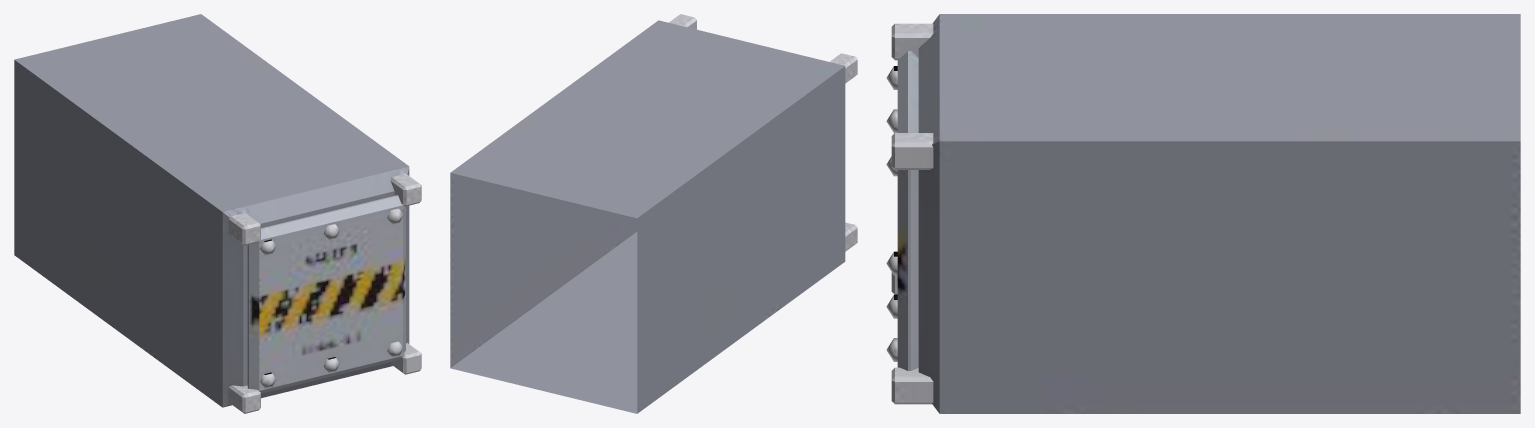
File: tile_steel.glb
3 renders of one model, left to right at view 1: azimuth 30°, elevation 25°; view 2: azimuth 150°, elevation 25°; view 3: azimuth 270°, elevation 25°, orthographic. The views are drawn at different scales.
Visible parts, largest first — view 1: tile_steel; view 2: tile_steel; view 3: tile_steel.
Boxes of the visible parts, bbox=[...] form: tile_steel: bbox=[14, 14, 421, 413]; tile_steel: bbox=[450, 14, 857, 413]; tile_steel: bbox=[886, 14, 1520, 413].
Size of the model in its own units: 1 by 1 by 2.11.
Materials: 1 (1 with a texture image).
